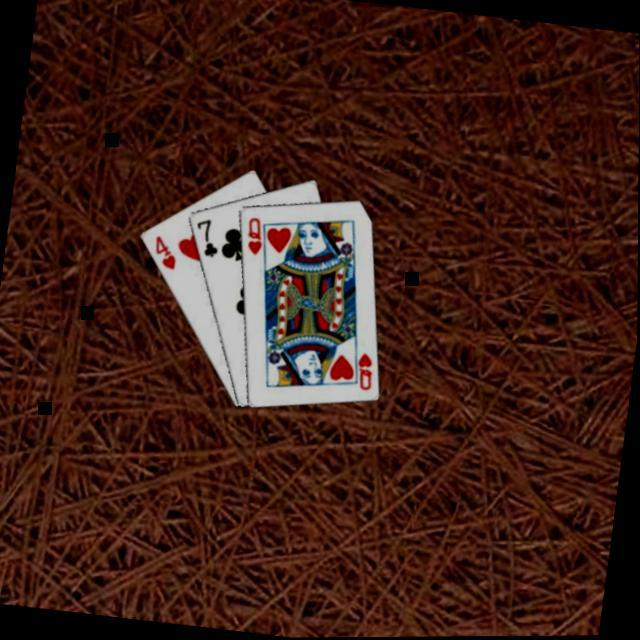4H: (151, 230, 183, 270)
7C: (191, 214, 226, 258)
QH: (349, 343, 380, 392), (243, 212, 270, 256)
